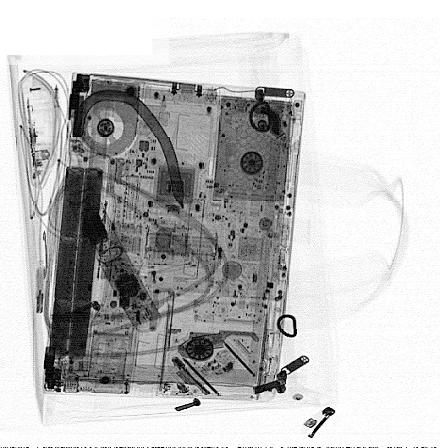Baton: (61, 169, 163, 333)
